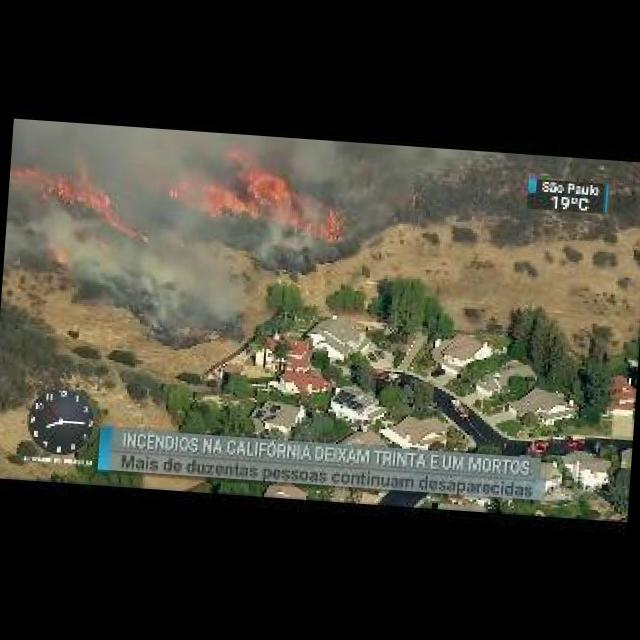fire: (166, 145, 343, 241), (10, 166, 154, 240), (51, 251, 64, 262)
